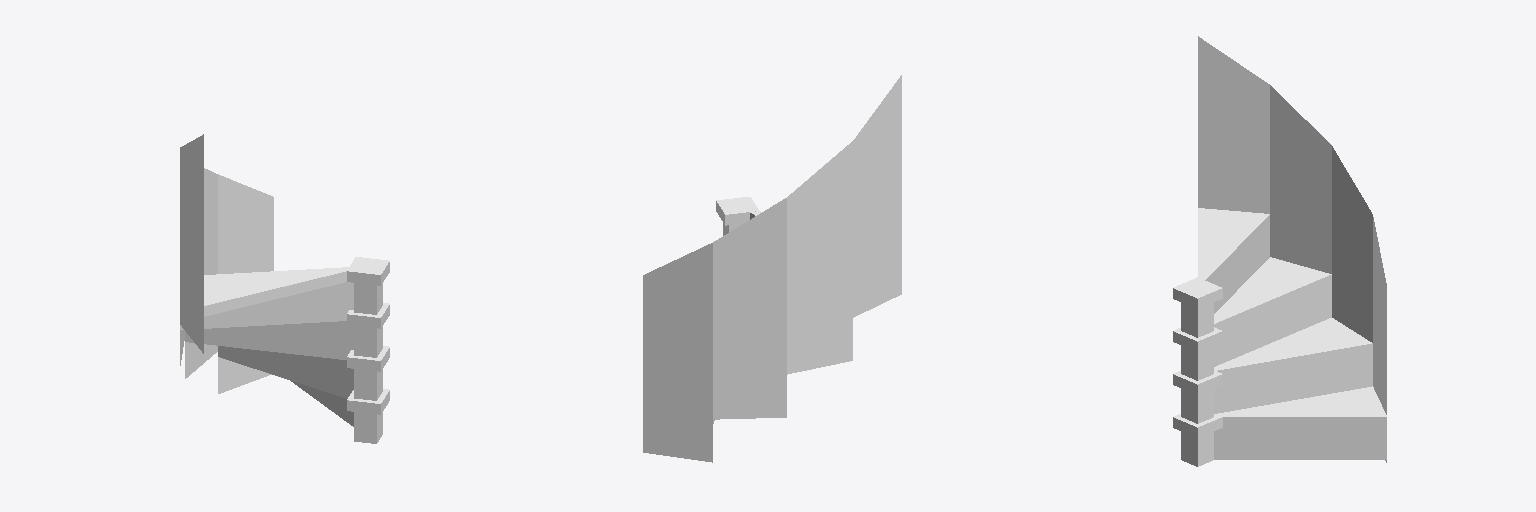
Rendered from spiral_staircase_flipped.obj.
The picture shows the model from 3 angles: view 1: azimuth 30°, elevation 25°; view 2: azimuth 150°, elevation 25°; view 3: azimuth 270°, elevation 25°; orthographic projection.
Parts seen in each view (by area): view 1: railing1, step4, railing4, beam, scallopfront3, scallopfront4, scallopfront2, step2, step3, railing2, step1, scallopside1 (+7 smaller); view 2: railing2, railing1, railing3, railing4, scallopside2, scallopside1, scallopside3, scallopside4, joint4, step2, step1, step3 (+1 smaller); view 3: railing4, railing3, railing2, scallopfront1, scallopfront2, step1, step2, step3, beam, scallopfront3, step4, railing1 (+5 smaller).
Boxes of the visible parts, box(x1,y1,x2,y2) form: railing1: box(218, 174, 273, 273); step4: box(180, 267, 348, 316); railing4: box(180, 134, 203, 304); beam: box(354, 283, 382, 443); scallopfront3: box(204, 321, 353, 349); scallopfront4: box(204, 282, 353, 317); scallopfront2: box(219, 346, 353, 389); step2: box(185, 331, 350, 359); step3: box(180, 310, 348, 329); railing2: box(204, 168, 217, 274); step1: box(218, 346, 352, 398); scallopside1: box(218, 357, 271, 393); railing2: box(713, 198, 786, 370); railing1: box(643, 243, 712, 413); railing3: box(787, 141, 852, 325); railing4: box(853, 75, 901, 268); scallopside2: box(713, 380, 786, 419); scallopside1: box(643, 415, 712, 462); scallopside3: box(787, 323, 852, 374); scallopside4: box(853, 257, 901, 317); joint4: box(716, 197, 758, 225); step2: box(713, 369, 786, 381); step1: box(643, 404, 714, 424); step3: box(787, 313, 852, 336); railing4: box(1198, 36, 1269, 213); railing3: box(1270, 85, 1331, 273); railing2: box(1332, 146, 1372, 342); scallopfront1: box(1214, 428, 1386, 459); scallopfront2: box(1214, 354, 1372, 413); step1: box(1217, 386, 1386, 427); step2: box(1214, 318, 1372, 379); step3: box(1214, 257, 1331, 330); beam: box(1181, 303, 1213, 466); scallopfront3: box(1214, 285, 1331, 366); step4: box(1198, 208, 1269, 283); railing1: box(1373, 217, 1386, 414).
Size of the model in its own units: 1.13 by 2.03 by 1.13.